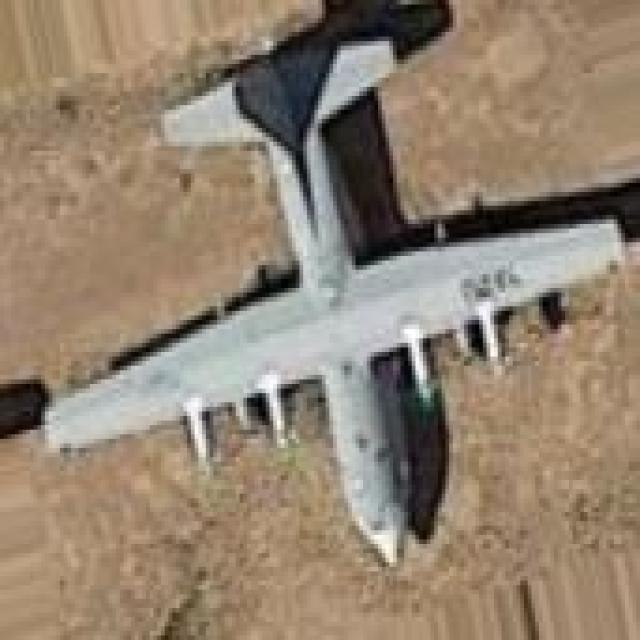C-130_TopDown: (38, 0, 633, 571)
